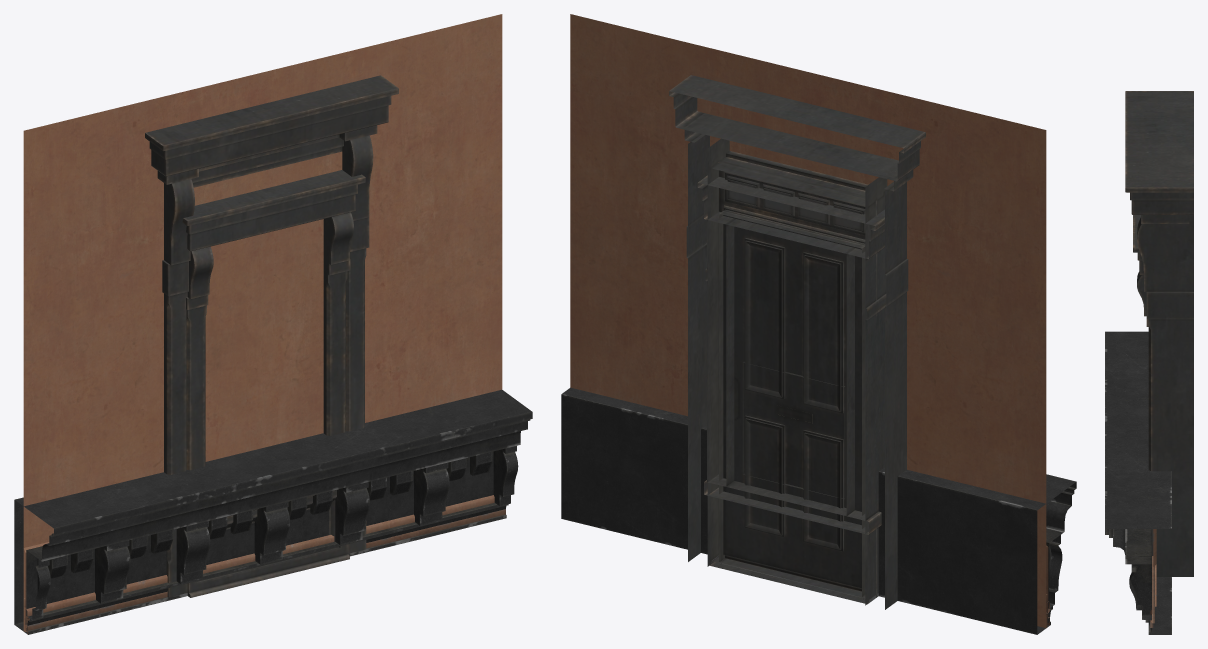
The model's file is modular_urban_apartments_facade.glb.
The picture shows the model from 3 angles, left to right: view 1: azimuth 30°, elevation 25°; view 2: azimuth 150°, elevation 25°; view 3: azimuth 270°, elevation 25°; orthographic projection. The views are drawn at different scales.
Parts seen in each view (by area): view 1: wall_door_centered_small_01, crown_standard_standard_01, door_centered_small_01, wall_standard_standard_01, window_centered_small_01, wall_window_centered_small_01, cornice_standard_standard_01, dado_standard_standard_01; view 2: door_centered_small_01, wall_door_centered_small_01, wall_window_centered_small_01, crown_standard_standard_01, window_centered_small_01, wall_standard_standard_01; view 3: door_centered_small_01, crown_standard_standard_01, window_centered_small_01, cornice_standard_standard_01, dado_standard_standard_01.
Boxes of the visible parts, x1=… form: wall_door_centered_small_01: x1=23, y1=14, x2=502, y2=631; crown_standard_standard_01: x1=14, y1=389, x2=532, y2=634; door_centered_small_01: x1=145, y1=75, x2=398, y2=597; wall_standard_standard_01: x1=185, y1=58, x2=341, y2=461; window_centered_small_01: x1=182, y1=170, x2=365, y2=597; wall_window_centered_small_01: x1=84, y1=39, x2=422, y2=416; cornice_standard_standard_01: x1=24, y1=495, x2=494, y2=631; dado_standard_standard_01: x1=23, y1=509, x2=505, y2=634; door_centered_small_01: x1=669, y1=75, x2=925, y2=609; wall_door_centered_small_01: x1=570, y1=14, x2=1046, y2=627; wall_window_centered_small_01: x1=649, y1=34, x2=986, y2=488; crown_standard_standard_01: x1=561, y1=387, x2=1076, y2=634; window_centered_small_01: x1=697, y1=175, x2=886, y2=604; wall_standard_standard_01: x1=729, y1=53, x2=907, y2=250; door_centered_small_01: x1=1125, y1=91, x2=1193, y2=576; crown_standard_standard_01: x1=1105, y1=331, x2=1171, y2=634; window_centered_small_01: x1=1133, y1=215, x2=1148, y2=326; cornice_standard_standard_01: x1=1150, y1=556, x2=1156, y2=623; dado_standard_standard_01: x1=1150, y1=529, x2=1156, y2=627.
Size of the model in its own units: 3 by 3 by 0.57.
Materials: 5 (5 with a texture image).
